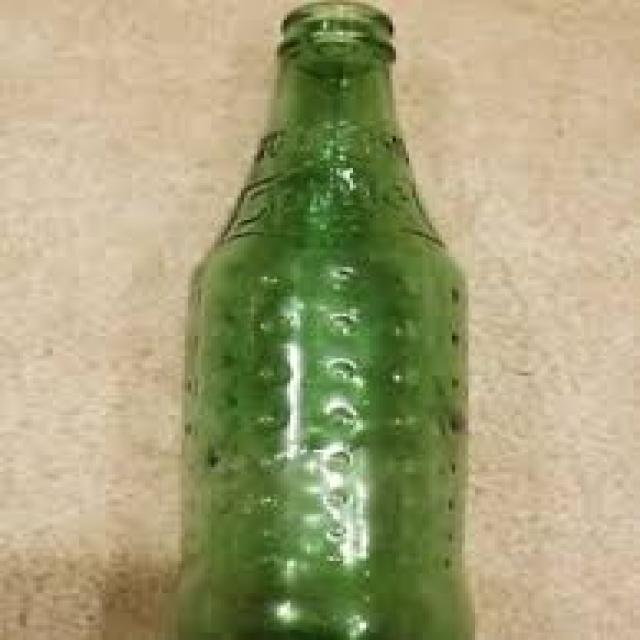glass: (182, 0, 465, 638)
